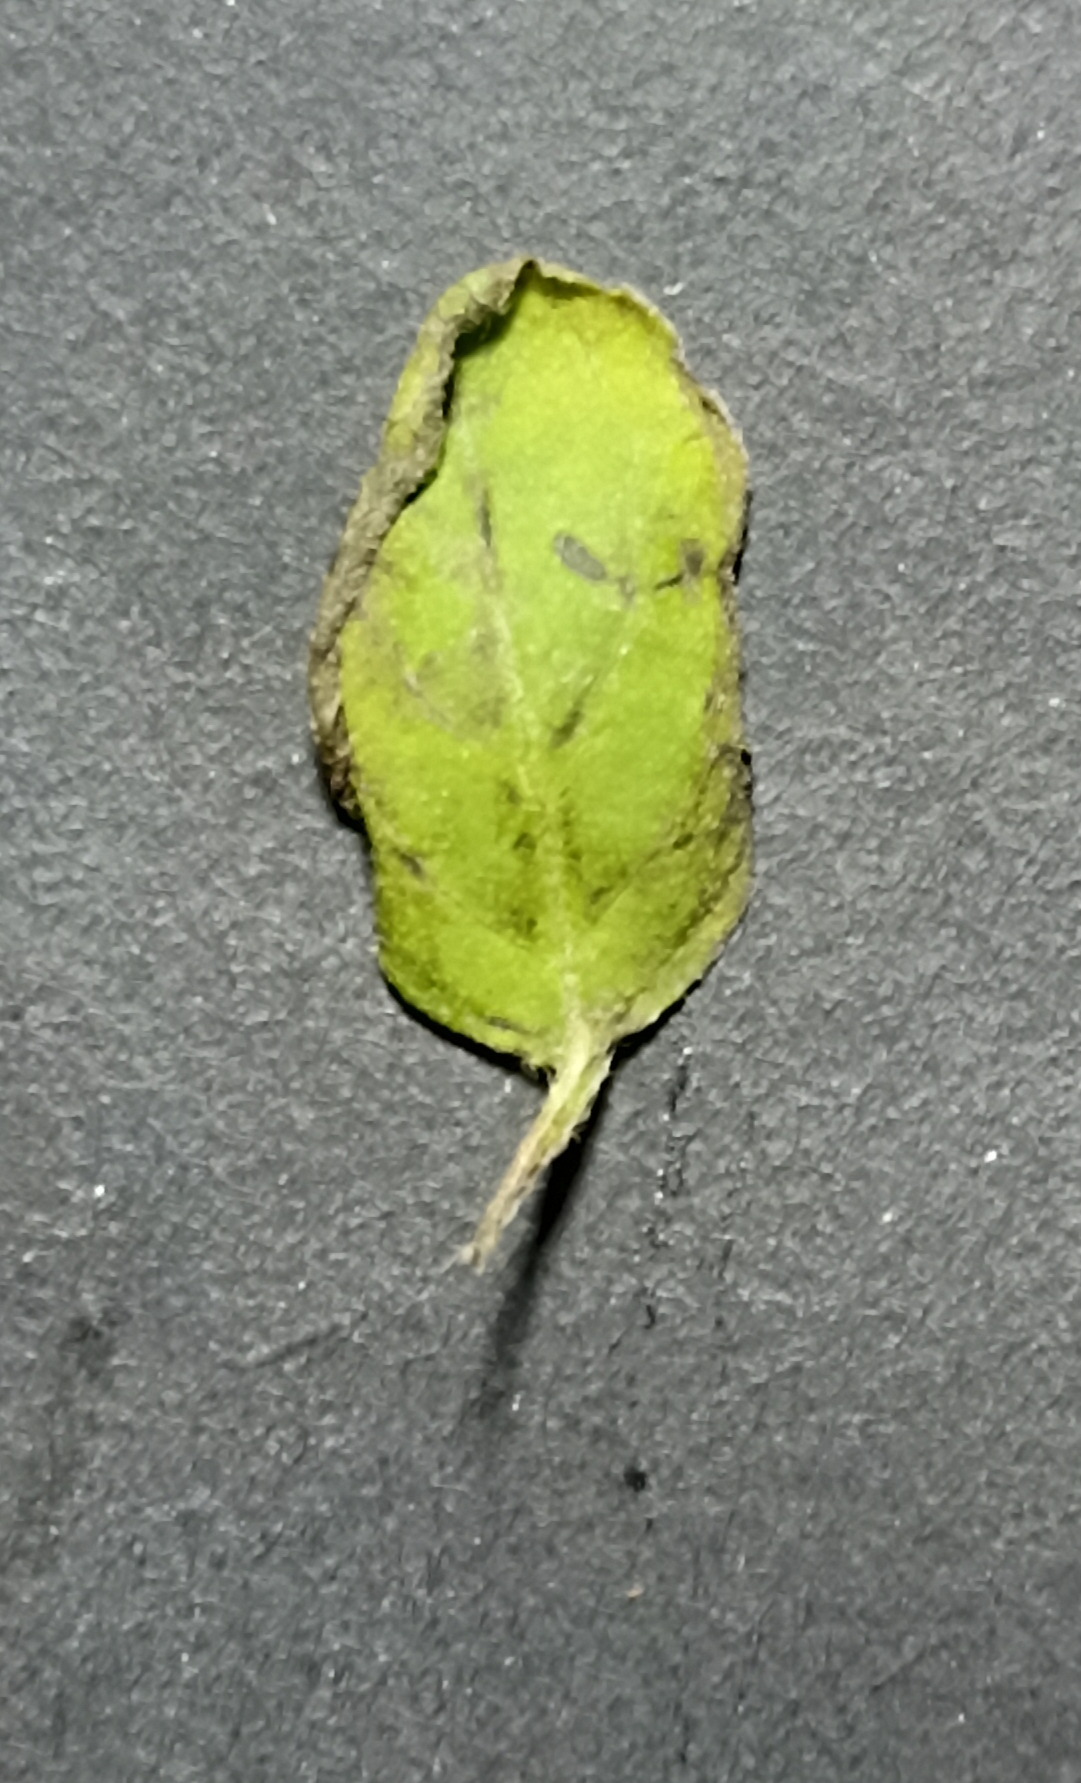Unhealthy: (300, 241, 770, 1055)
